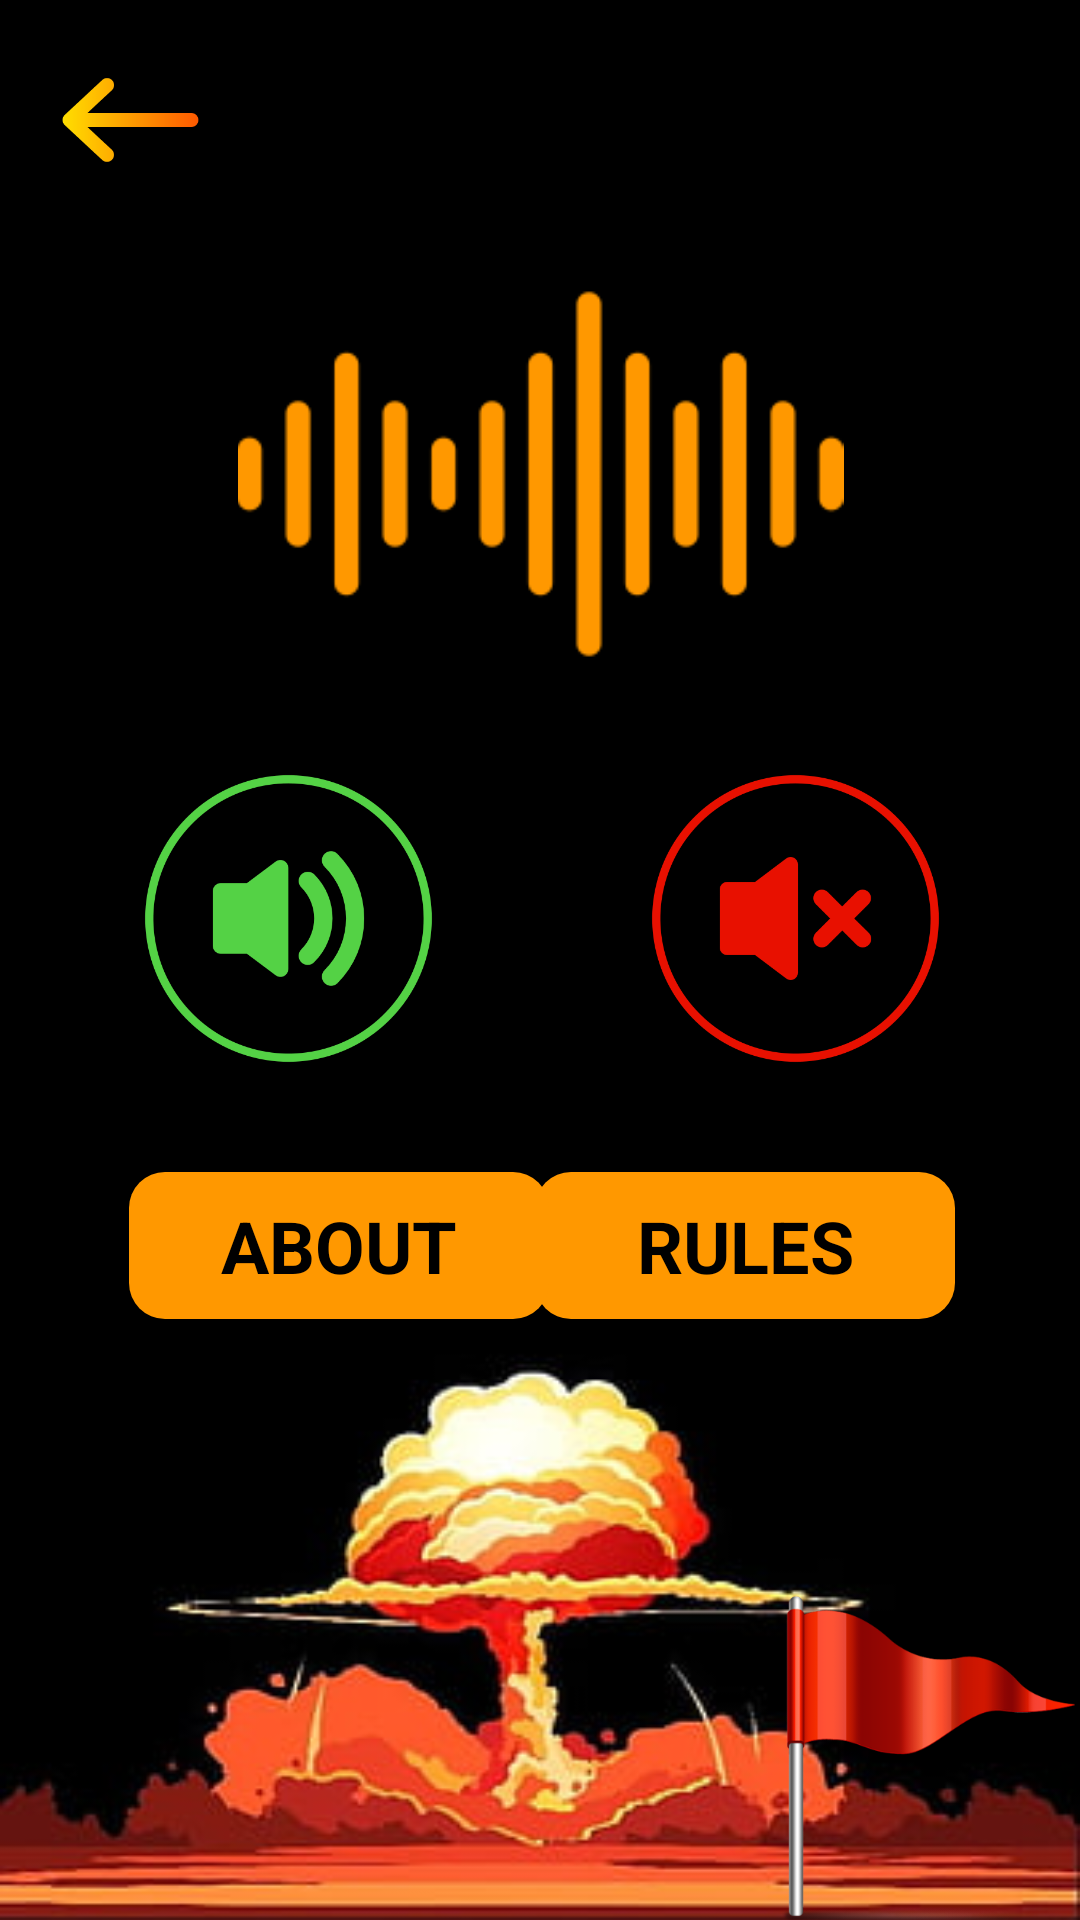

Icon click points for this 1080*1920 phone screenshot, format [x,y]:
Back Button: [130,120]
Flag: [930,1754]
Sound Off: [795,918]
Sound On: [288,918]
